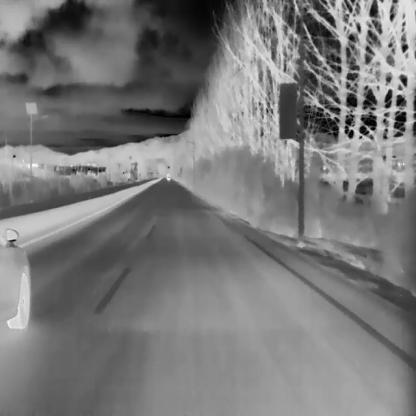car: (0, 228, 29, 329)
